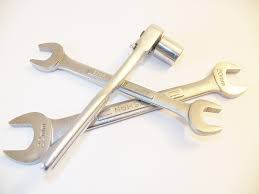Wrench: (30, 24, 220, 169), (4, 112, 77, 163), (162, 64, 239, 100), (88, 100, 158, 130)
